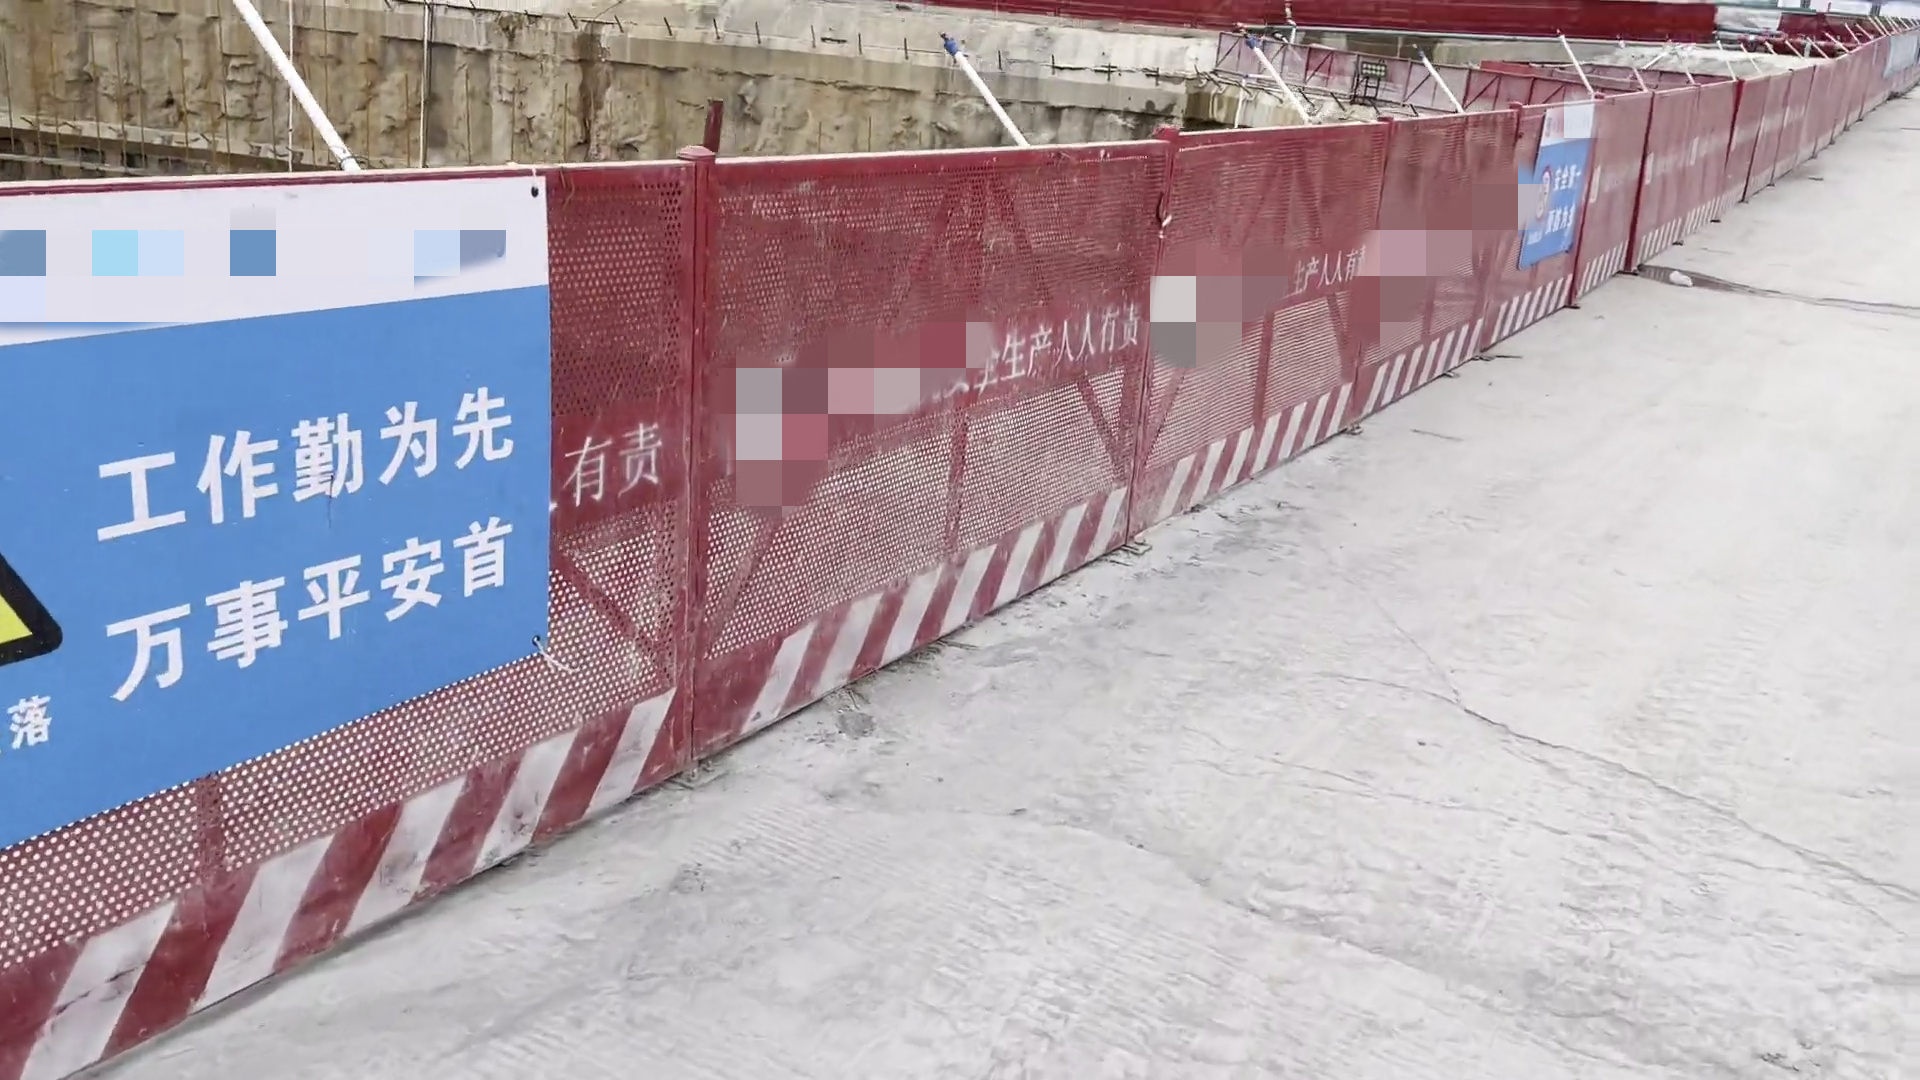fence: (8, 18, 1912, 1077), (959, 1, 1876, 63)
slogan: (955, 302, 1147, 389), (1284, 241, 1371, 309)
